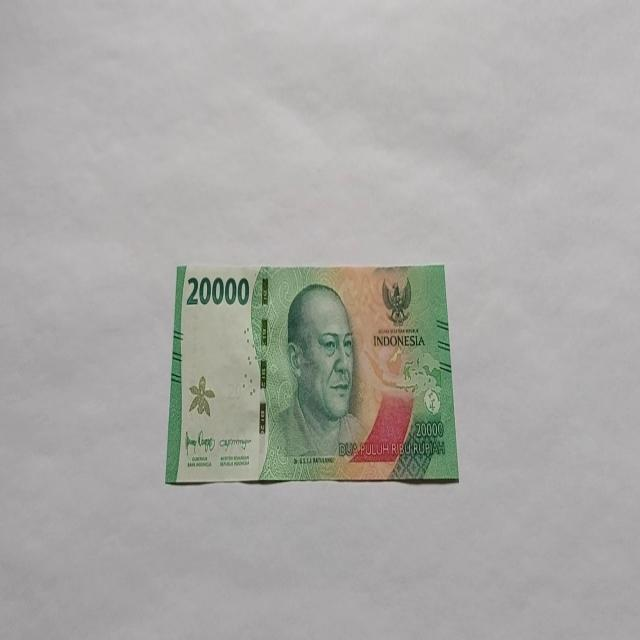dua puluh ribu rupiah: (164, 262, 460, 486), (255, 279, 414, 481)
